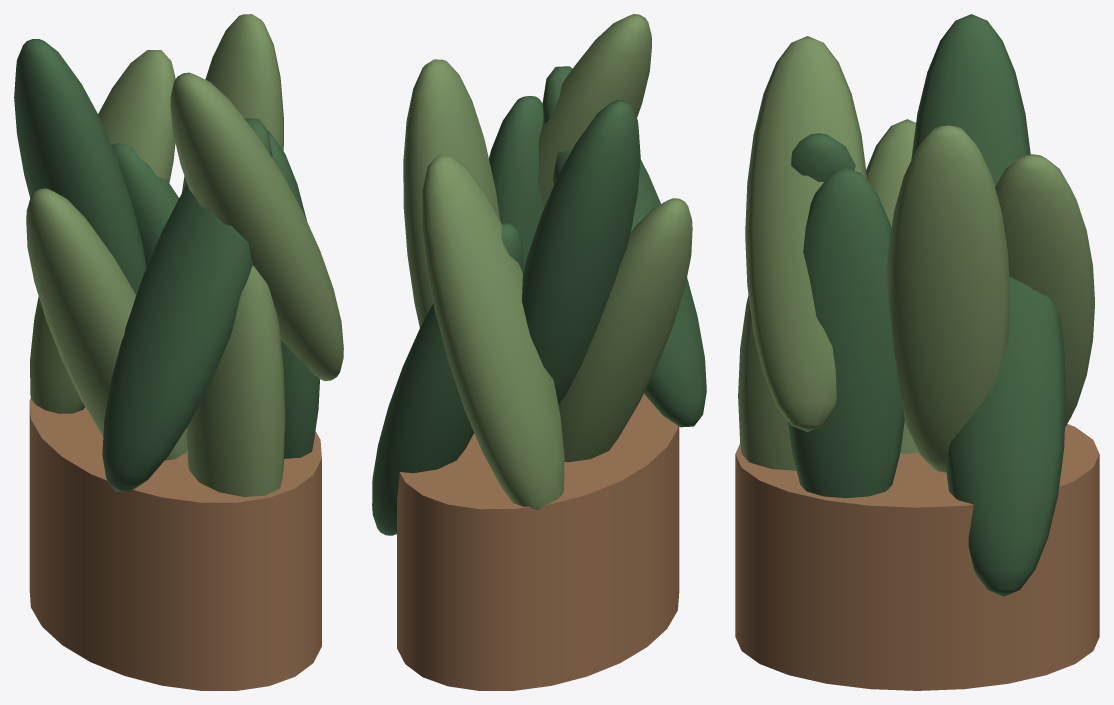
File: indoor-plant.glb
3 renders of one model, left to right at view 1: azimuth 30°, elevation 25°; view 2: azimuth 150°, elevation 25°; view 3: azimuth 270°, elevation 25°, orthographic. The views are drawn at different scales.
Size of the model in its own units: 0.4603 by 0.9636 by 0.55.
